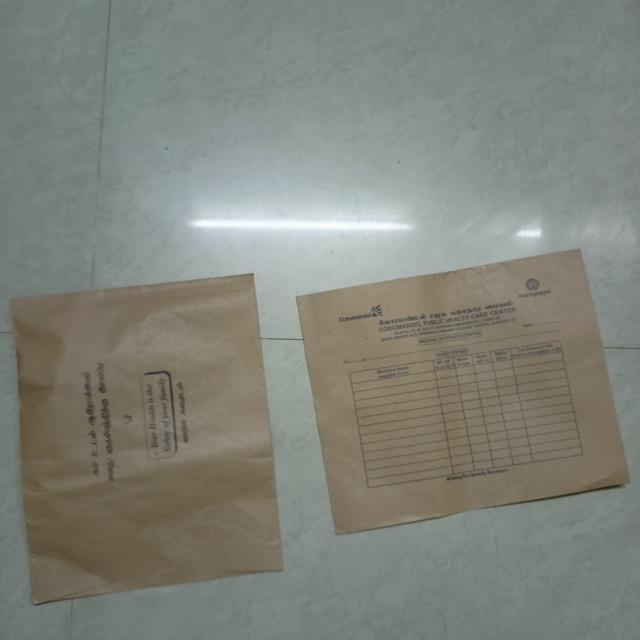box: (300, 249, 630, 535), (14, 273, 284, 605)
